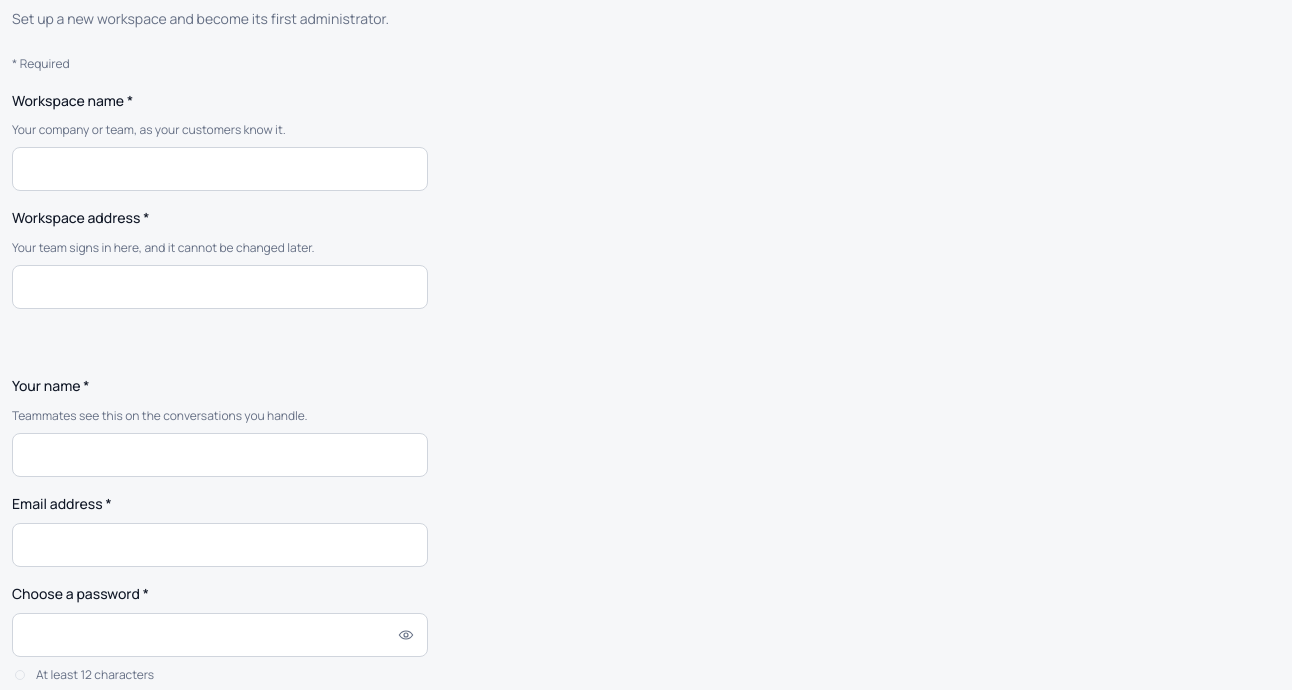
Scenario: SignupForm › explains a deployment that does not create workspaces from a form
Type "Northwind Support" into the field labelled "Workspace name *".
click(220, 169); type("Northwind Support")  # box [12, 147, 428, 191]
Type "northwind" into the field labelled "Workspace address *".
click(220, 287); type("northwind")  # box [12, 265, 428, 309]
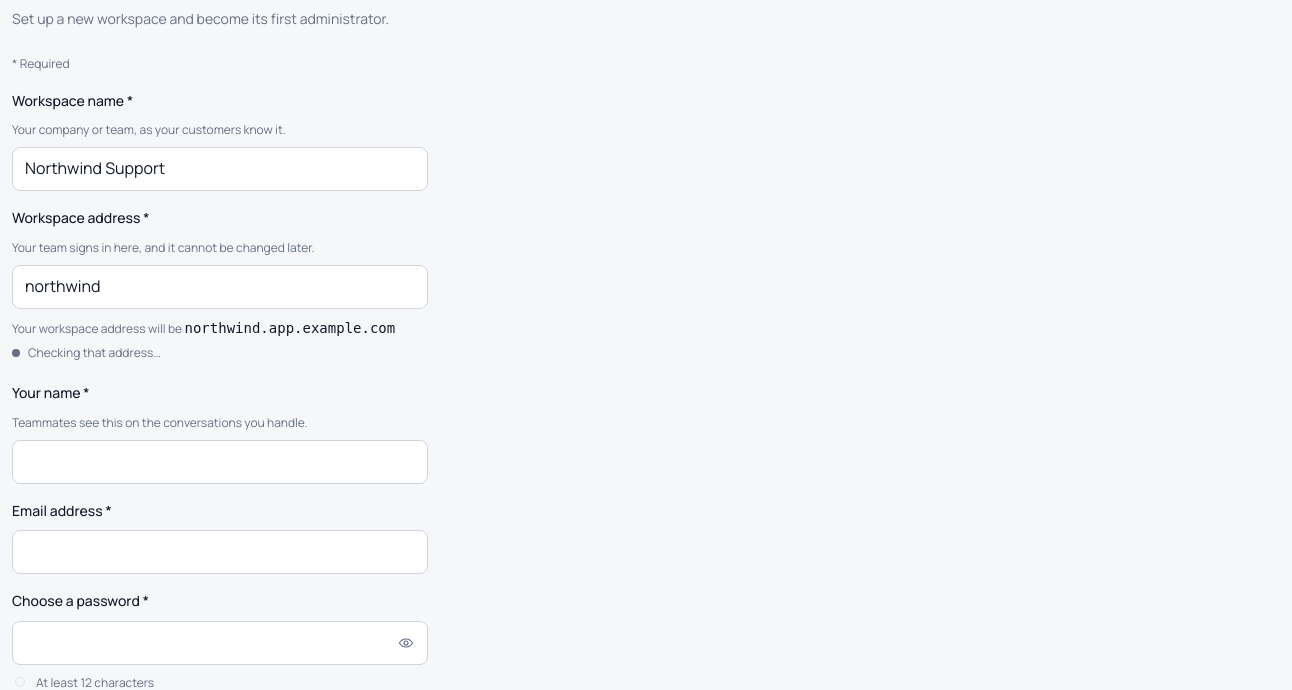
Type "Amina Haddad" into the field labelled "Your name *".
click(220, 462); type("Amina Haddad")  # box [12, 440, 428, 484]
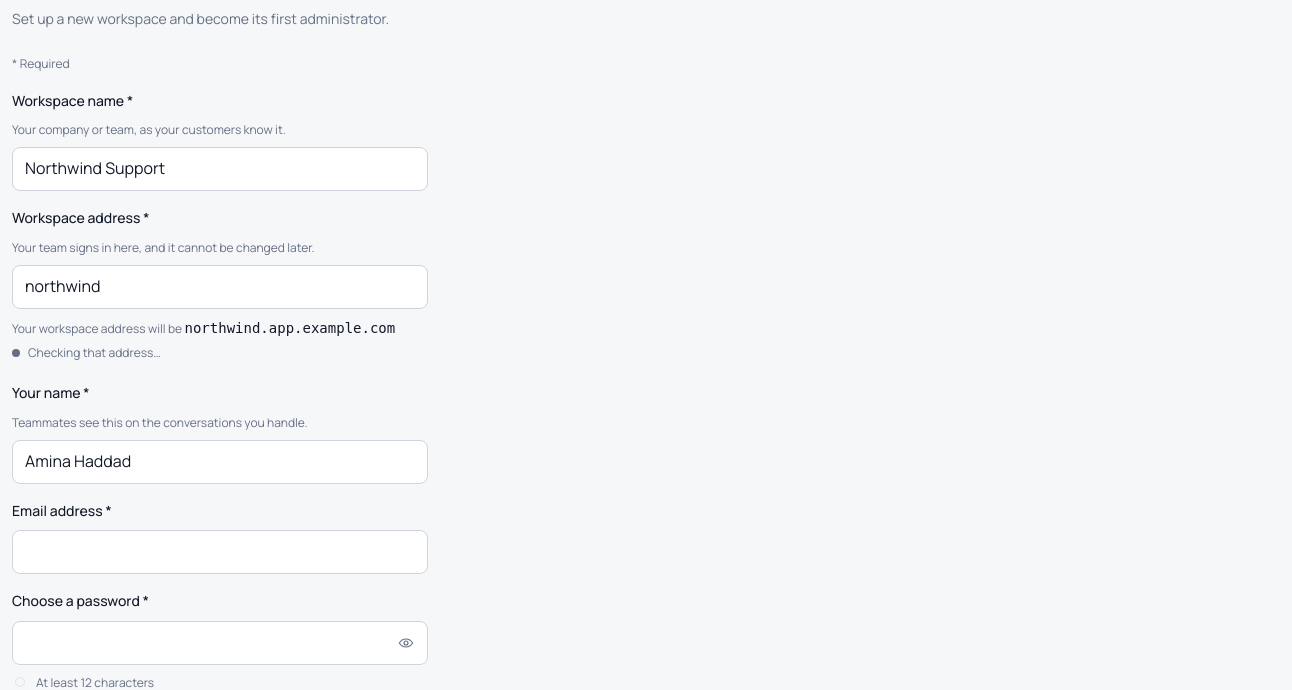
Type "amina@northwind.example" into the field labelled "Email address *".
click(220, 552); type("amina@northwind.example")  # box [12, 530, 428, 574]
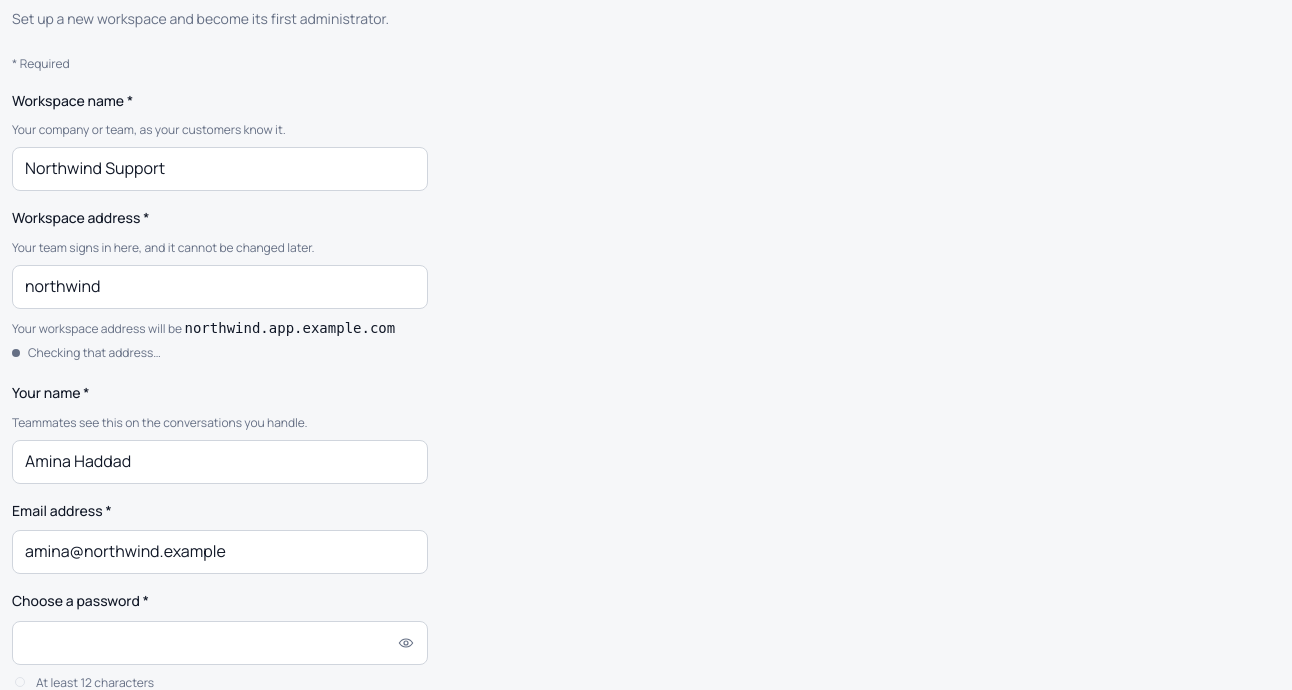
Type "a-perfectly-fine-passphrase" into the password field labelled "Choose a password *".
click(220, 643); type("a-perfectly-fine-passphrase")  # box [12, 621, 428, 665]
(page scrolled)
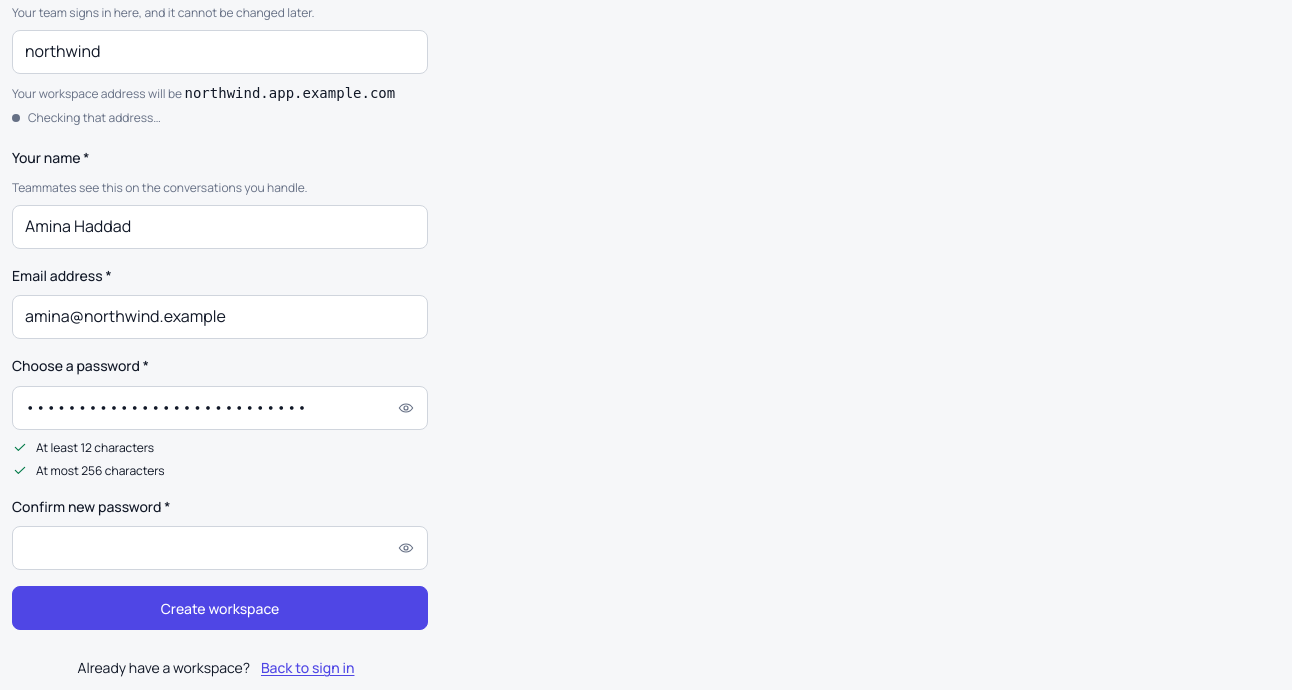
Type "a-perfectly-fine-passphrase" into the password field labelled "Confirm new password *".
click(220, 548); type("a-perfectly-fine-passphrase")  # box [12, 526, 428, 570]
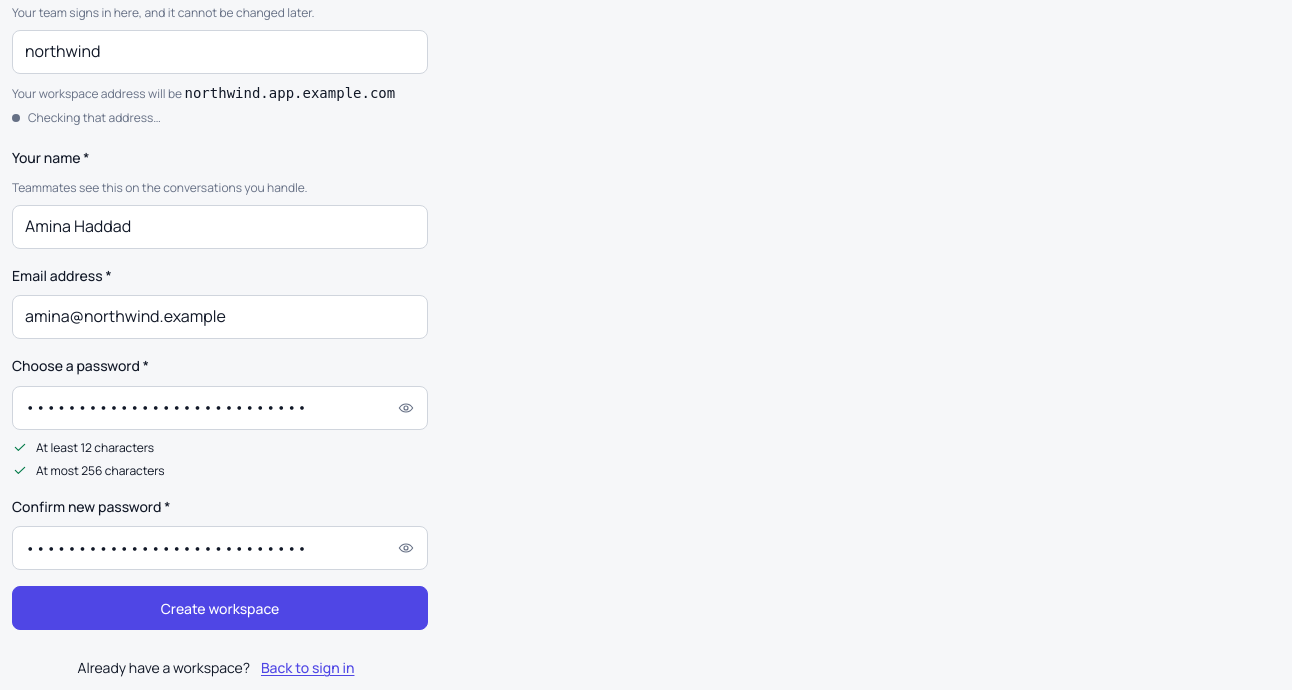
Click the button "Create workspace".
click(220, 608)  # box [12, 586, 428, 630]
(page scrolled)
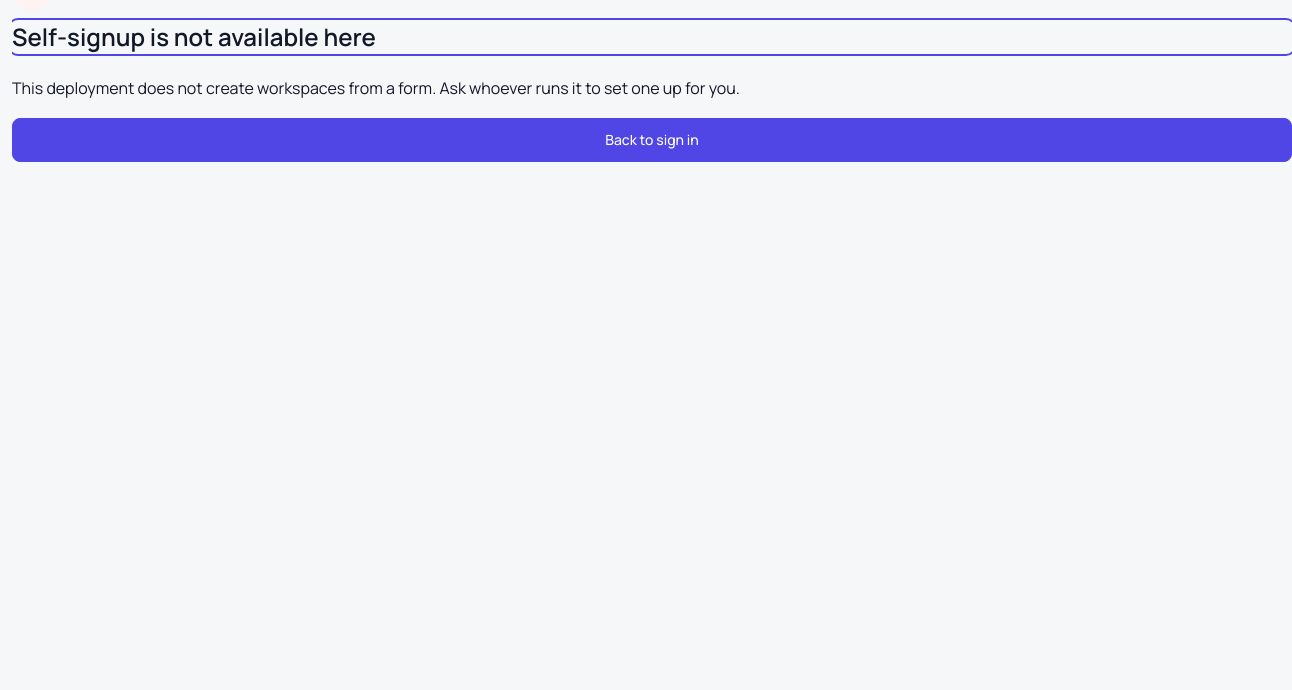
expect the heading "Self-signup is not available here" is shown: met, box [12, 20, 376, 53]
